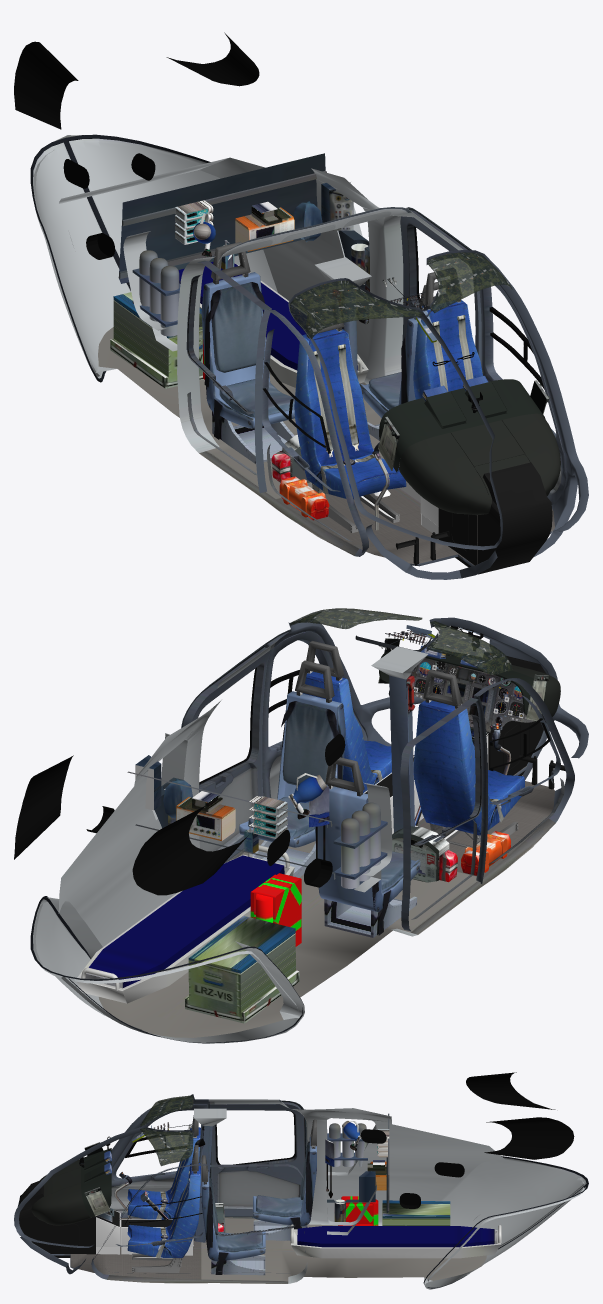
File: interior.gltf
3 renders of one model, top to bottom at view 1: azimuth 30°, elevation 25°; view 2: azimuth 150°, elevation 25°; view 3: azimuth 270°, elevation 25°, orthographic. The views are drawn at different scales.
Visible parts, largest first — view 1: Interior; view 2: Interior; view 3: Interior.
Part boxes in pixels (x1,y1,x2,y2): Interior: [14, 32, 588, 579]; Interior: [14, 608, 588, 1043]; Interior: [14, 1072, 588, 1289].
Size of the model in its own units: 1.61 by 1.74 by 5.42.
59 materials, 37 textured.
